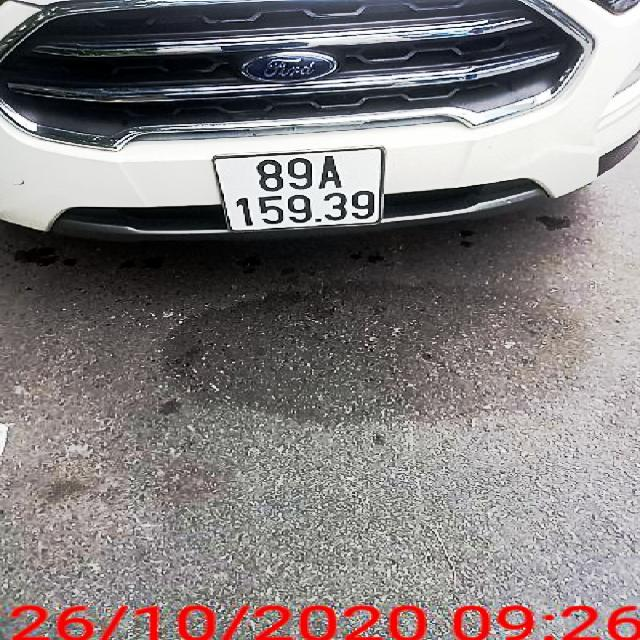license_plate: (211, 147, 383, 231)
